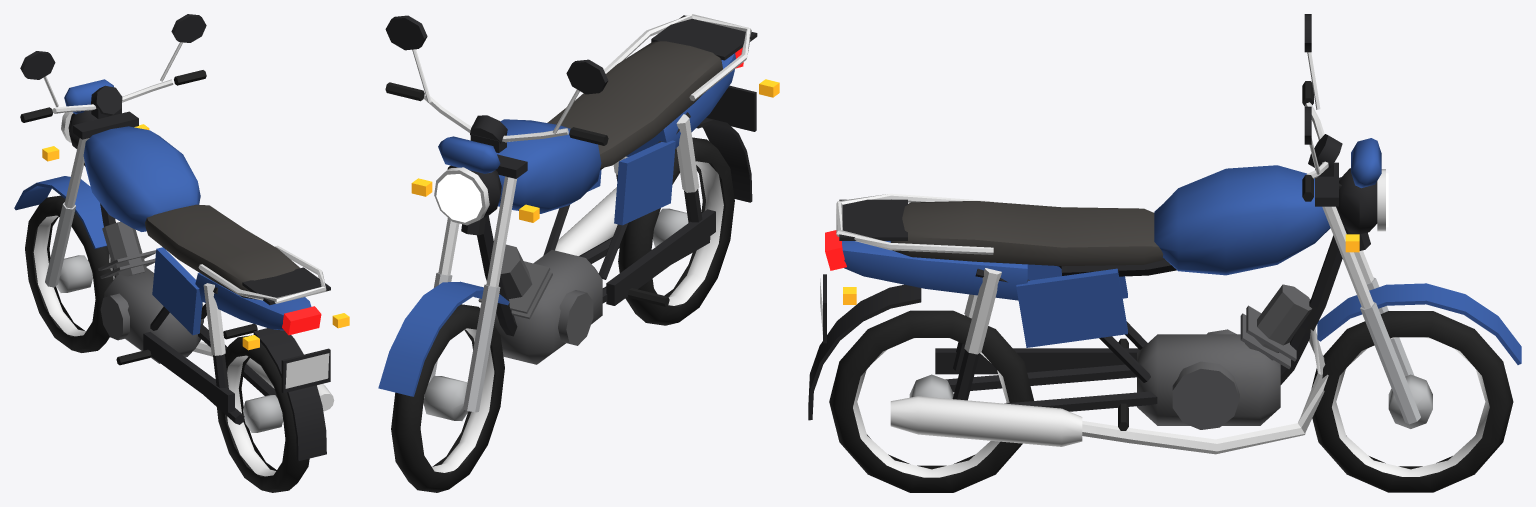
Rendered from motorbike_lod1.glb.
3 renders of one model, left to right at view 1: azimuth 30°, elevation 25°; view 2: azimuth 150°, elevation 25°; view 3: azimuth 270°, elevation 25°, orthographic. The views are drawn at different scales.
Parts seen in each view (by area): view 1: bike_body, wheel_front, wheel_rear; view 2: bike_body, wheel_front, wheel_rear; view 3: bike_body, wheel_front, wheel_rear.
Part boxes in pixels (x1,y1,x2,y2): bike_body: (14, 14, 349, 461); wheel_front: (25, 195, 113, 352); wheel_rear: (217, 335, 309, 492); bike_body: (378, 14, 779, 412); wheel_front: (391, 304, 504, 492); wheel_rear: (618, 137, 734, 325); bike_body: (808, 14, 1521, 454); wheel_front: (1311, 311, 1513, 492); wheel_rear: (829, 310, 1033, 492).
Size of the model in its own units: 0.7776 by 1.39 by 2.08.
